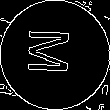M_E: (29, 31, 81, 79)
